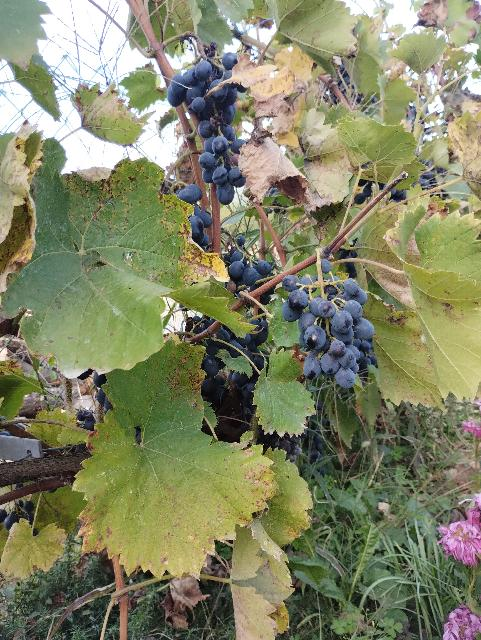grapes: (281, 258, 378, 389), (168, 52, 247, 205)
